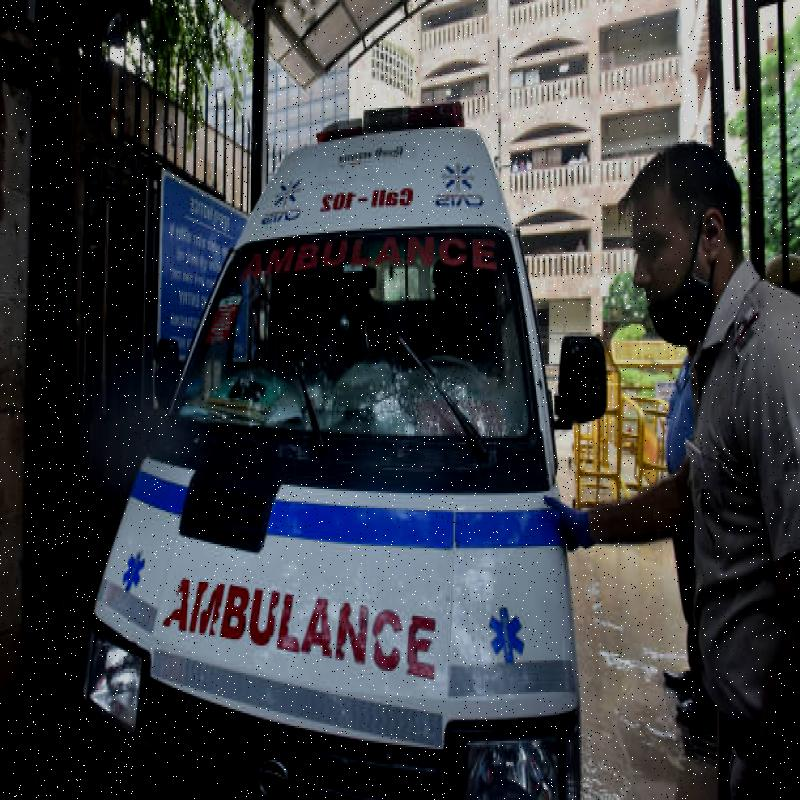ambulance: (86, 117, 588, 785)
